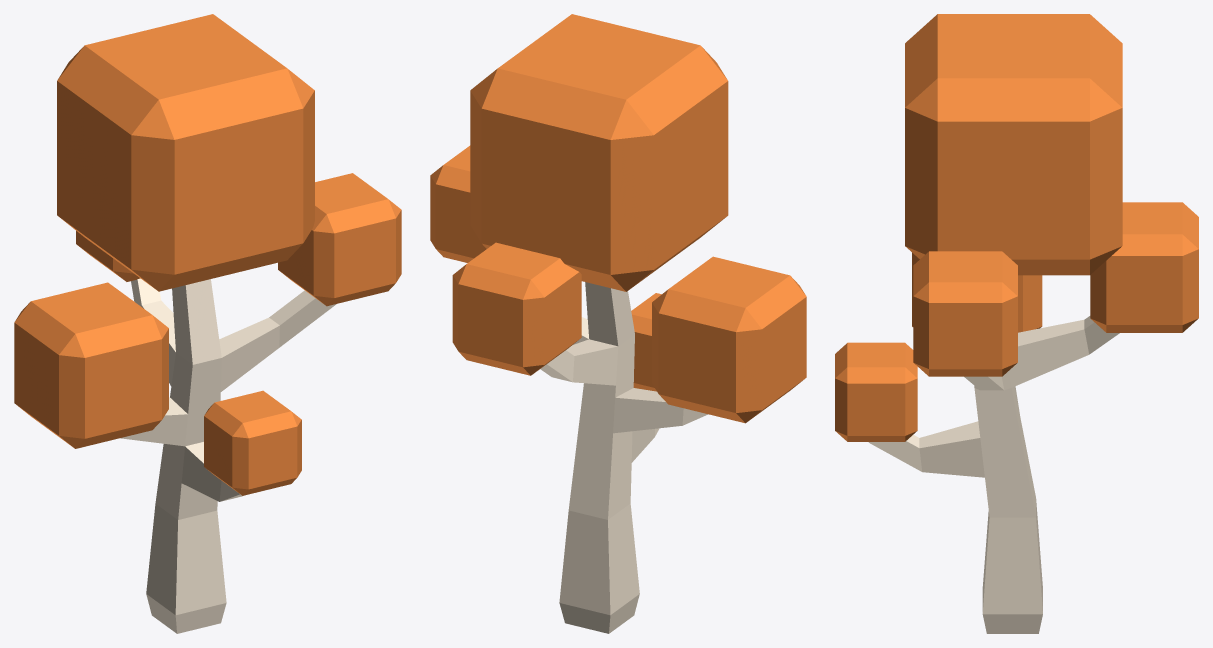
The model's file is tree_detailed_fall.obj.
3 renders of one model, left to right at view 1: azimuth 30°, elevation 25°; view 2: azimuth 150°, elevation 25°; view 3: azimuth 270°, elevation 25°, orthographic. The views are drawn at different scales.
Parts seen in each view (by area): view 1: tree_detailed_fall; view 2: tree_detailed_fall; view 3: tree_detailed_fall.
Part boxes in pixels (x1,y1,x2,y2): tree_detailed_fall: [14, 14, 401, 633]; tree_detailed_fall: [430, 14, 806, 633]; tree_detailed_fall: [835, 14, 1198, 633].
Size of the model in its own units: 0.8471 by 1.33 by 0.7616.
